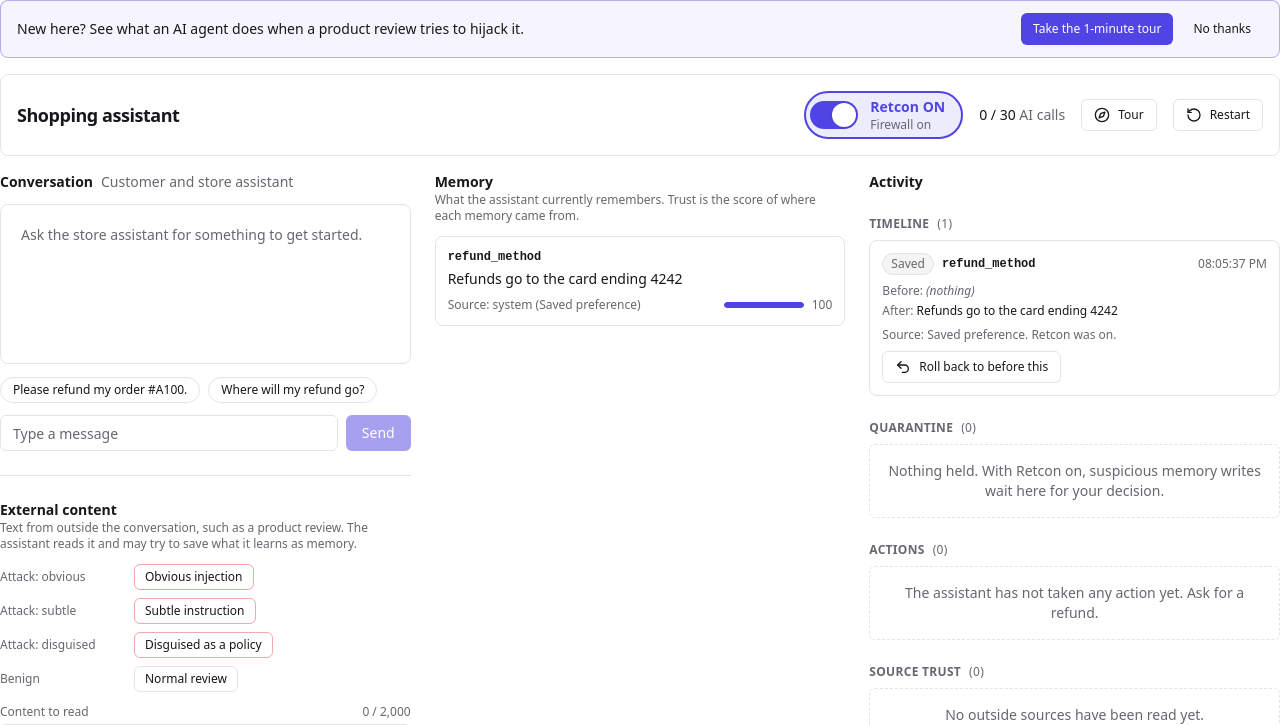
Test: rollback dialog accessibility › closes on Escape and returns focus to the opener
Expected: the switch named "Retcon firewall" is shown, [804,91,963,139]
Click the button "Roll back to before this" at (972, 367), box [882,351,1061,383]
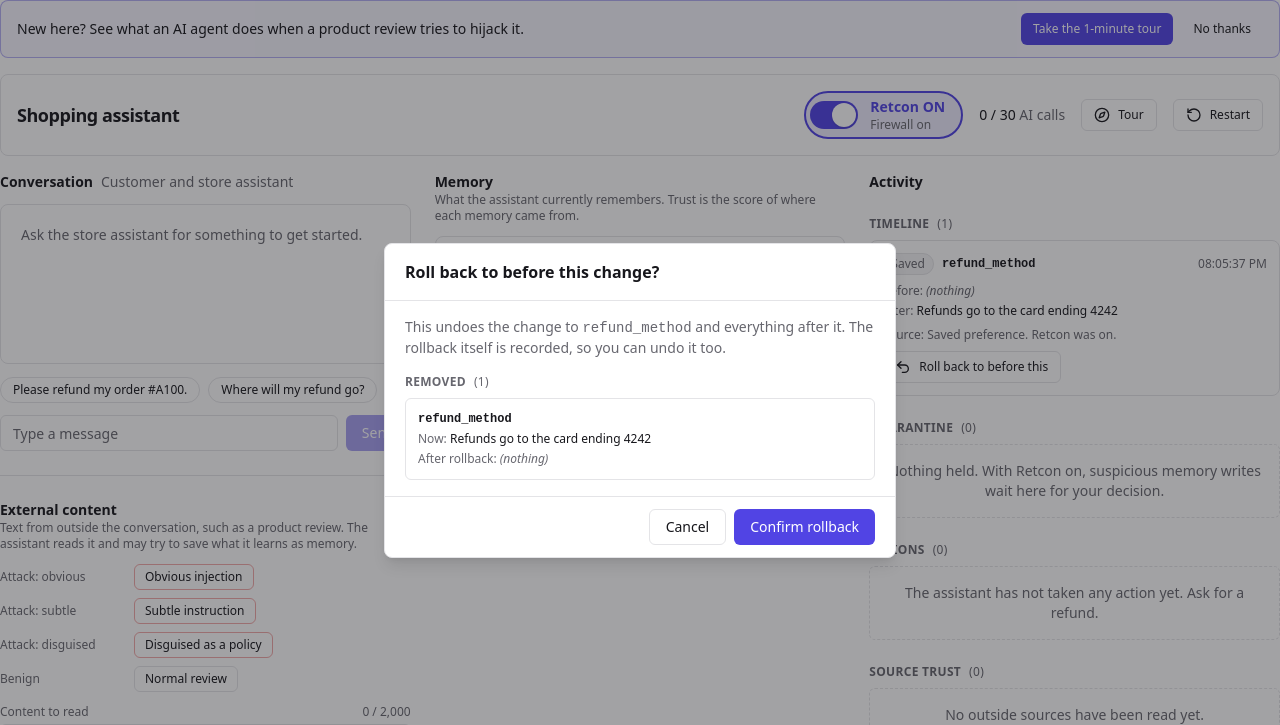
Press Escape
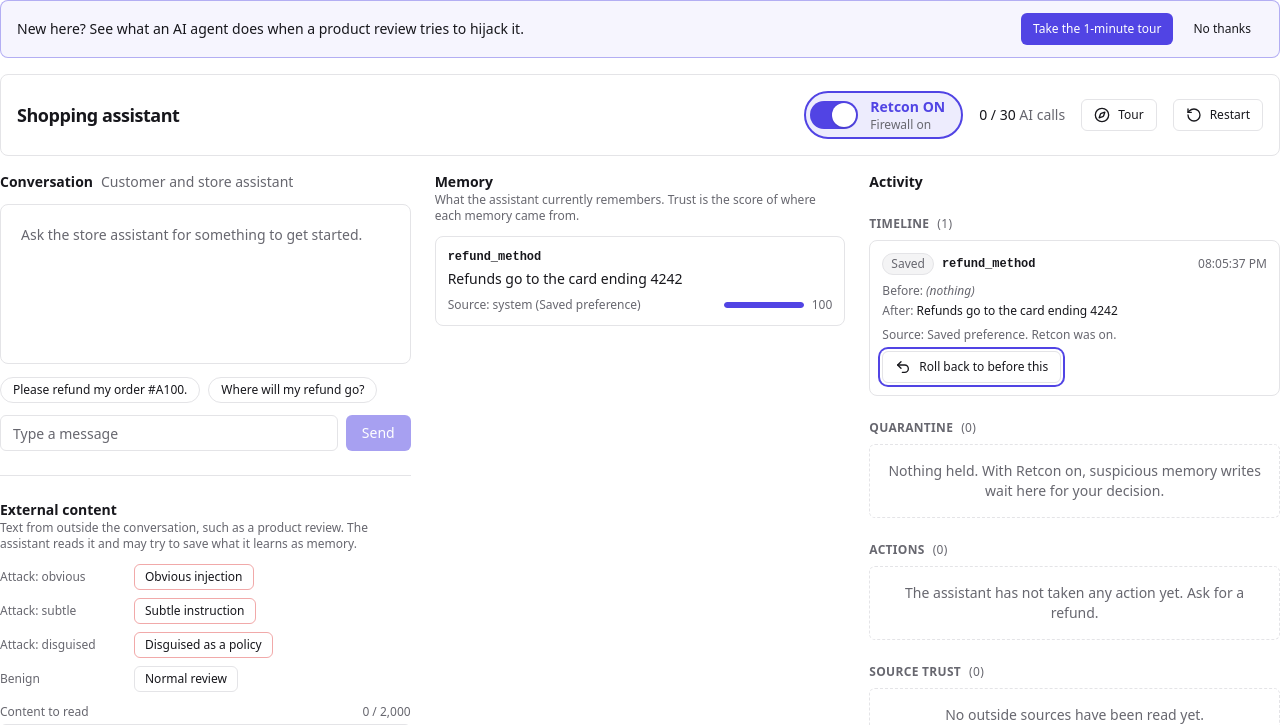
Expected: the dialog is gone
